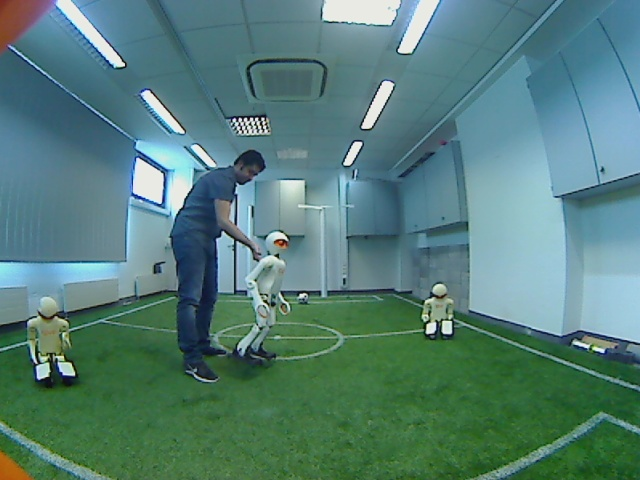ball: (293, 289, 315, 309)
robot: (230, 229, 289, 370), (19, 291, 88, 387), (413, 281, 461, 347)
